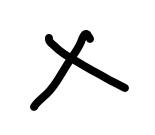mult: (31, 33, 128, 109)
